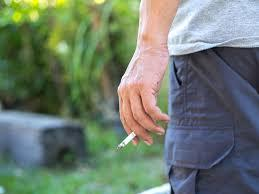smoke: (117, 129, 140, 149)
